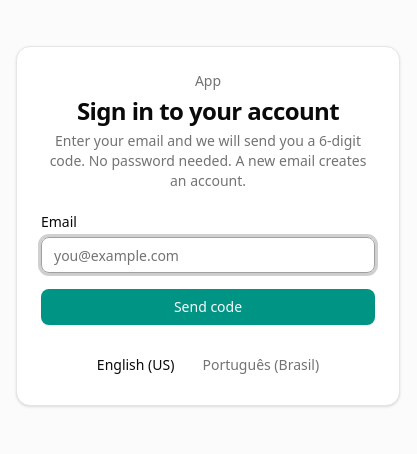
Test: LoginPage › validates the code without sending a request
Type "ana@example.com" into the field labelled "Email" at (208, 255), box x1=41 y1=237 x2=375 y2=273
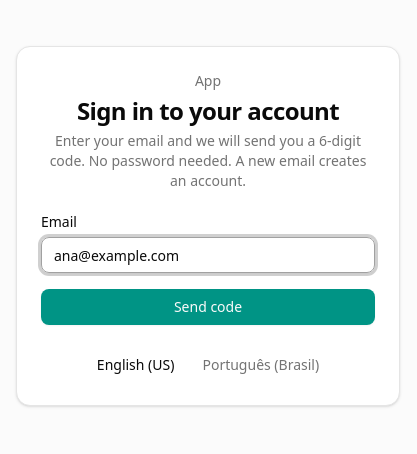
Click the button "Send code" at (208, 307), box x1=41 y1=289 x2=375 y2=325
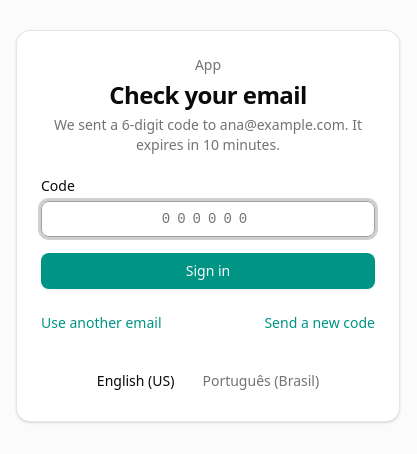
Expected: the heading "Check your email" is shown, x1=109 y1=78 x2=307 y2=111
Type "123" into the field labelled "Code" at (208, 219), box x1=41 y1=201 x2=375 y2=237
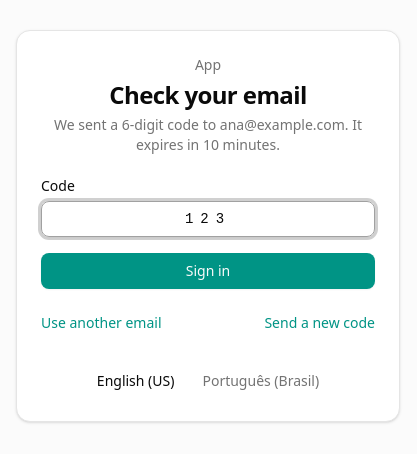
Click the button "Sign in" at (208, 271), box x1=41 y1=253 x2=375 y2=289
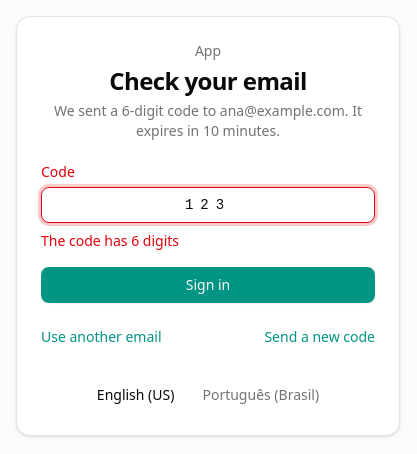
Expected: the text "The code has 6 digits" is shown, x1=41 y1=231 x2=179 y2=250
